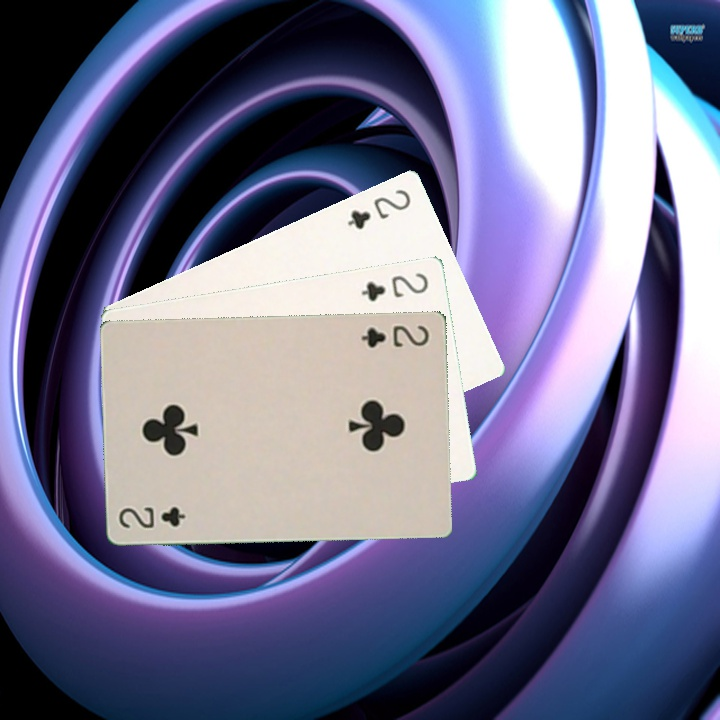2c: (343, 185, 414, 232), (357, 268, 431, 304), (357, 321, 432, 350), (115, 502, 188, 531)
